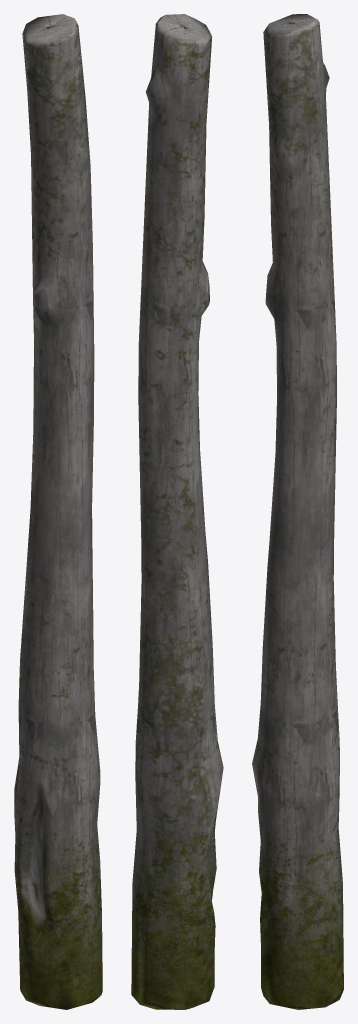
Rendered from SM_Posts_B2.fbx.
The picture shows the model from 3 angles, left to right: view 1: azimuth 30°, elevation 25°; view 2: azimuth 150°, elevation 25°; view 3: azimuth 330°, elevation 25°; orthographic projection.
Parts seen in each view (by area): view 1: SM_Posts_B2_LOD0; view 2: SM_Posts_B2_LOD0; view 3: SM_Posts_B2_LOD0.
Part boxes in pixels (left/top/right/bottom): SM_Posts_B2_LOD0: left=14, top=14, right=102, bottom=1009; SM_Posts_B2_LOD0: left=131, top=14, right=223, bottom=1009; SM_Posts_B2_LOD0: left=252, top=14, right=343, bottom=1009.
Size of the model in its own units: 23.42 by 21.27 by 273.
